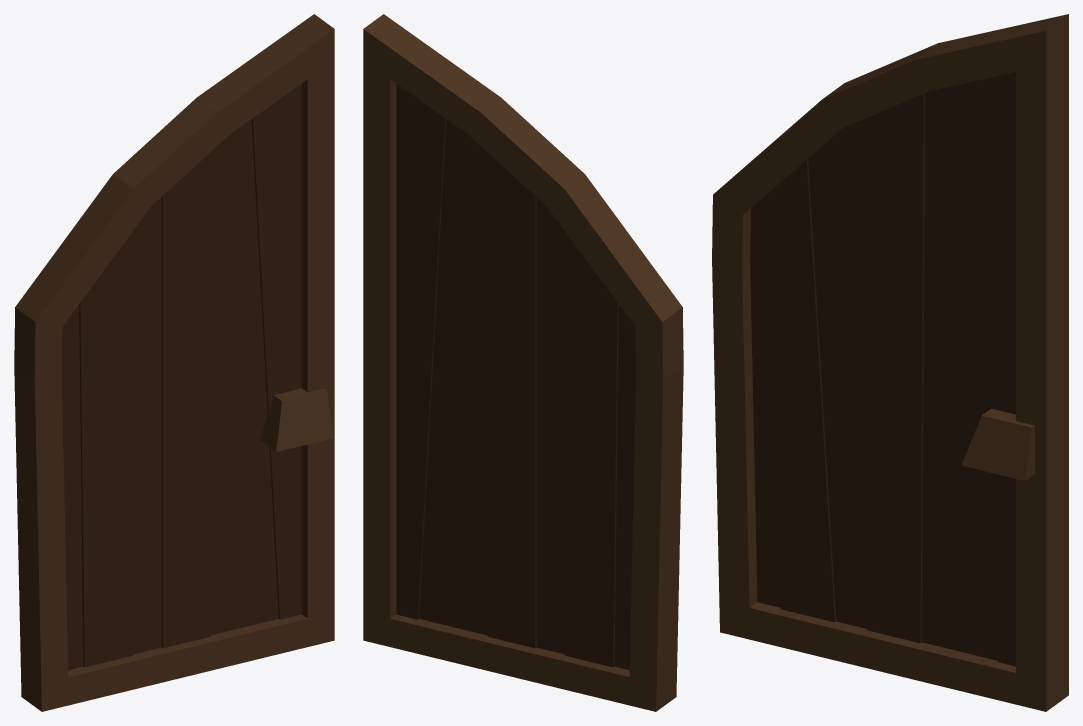
The model's file is Tribal_Plains_Tent_Door_Wood_Timber_01.fbx.
3 views of the same model, side by side, from view 1: azimuth 30°, elevation 25°; view 2: azimuth 150°, elevation 25°; view 3: azimuth 330°, elevation 25° (orthographic). The views are drawn at different scales.
Visible parts, largest first — view 1: Tribal_Plains_Tent_Door_Wood_Timber_01; view 2: Tribal_Plains_Tent_Door_Wood_Timber_01; view 3: Tribal_Plains_Tent_Door_Wood_Timber_01.
Part boxes in pixels (left/top/right/bottom): Tribal_Plains_Tent_Door_Wood_Timber_01: left=14, top=14, right=334, bottom=711; Tribal_Plains_Tent_Door_Wood_Timber_01: left=363, top=14, right=683, bottom=711; Tribal_Plains_Tent_Door_Wood_Timber_01: left=712, top=14, right=1068, bottom=711.
Size of the model in its own units: 1.37 by 2.67 by 0.2319.
